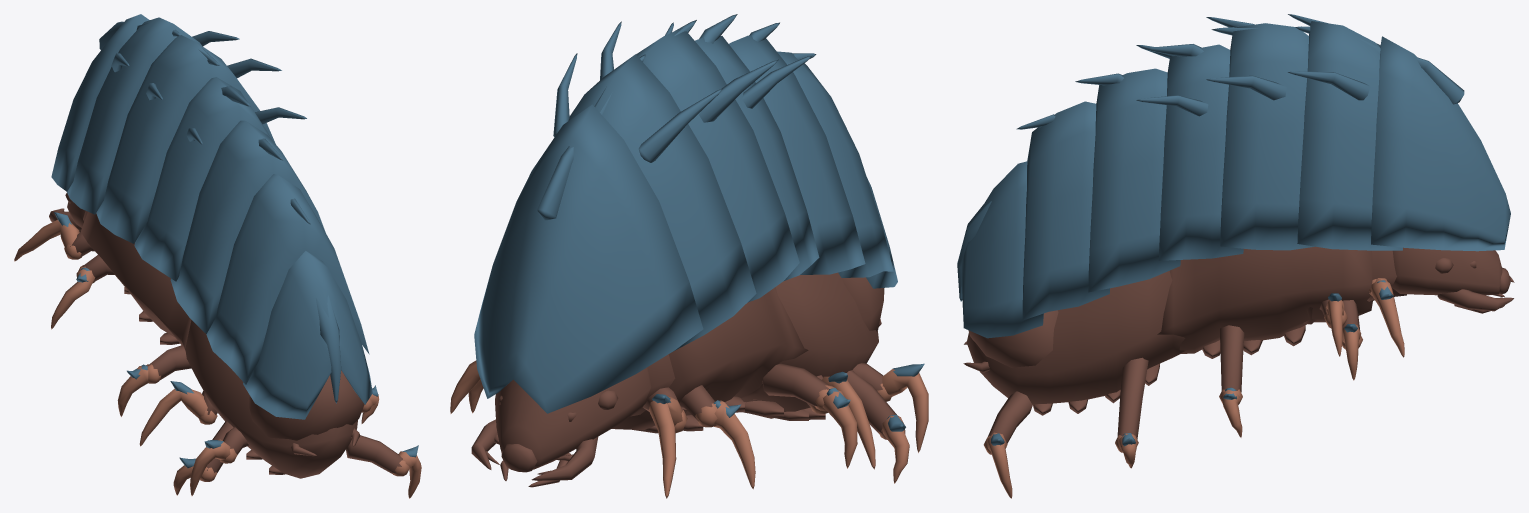
File: big-spitter.glb
3 renders of one model, left to right at view 1: azimuth 30°, elevation 25°; view 2: azimuth 150°, elevation 25°; view 3: azimuth 270°, elevation 25°, orthographic. The views are drawn at different scales.
Visible parts, largest first — view 1: body; view 2: body; view 3: body.
Part boxes in pixels (x1,y1,x2,y2): body: (14, 14, 421, 498); body: (450, 14, 928, 498); body: (957, 14, 1514, 498).
Bounding box in the file's own units: 1.63 × 2.67 × 3.15.
